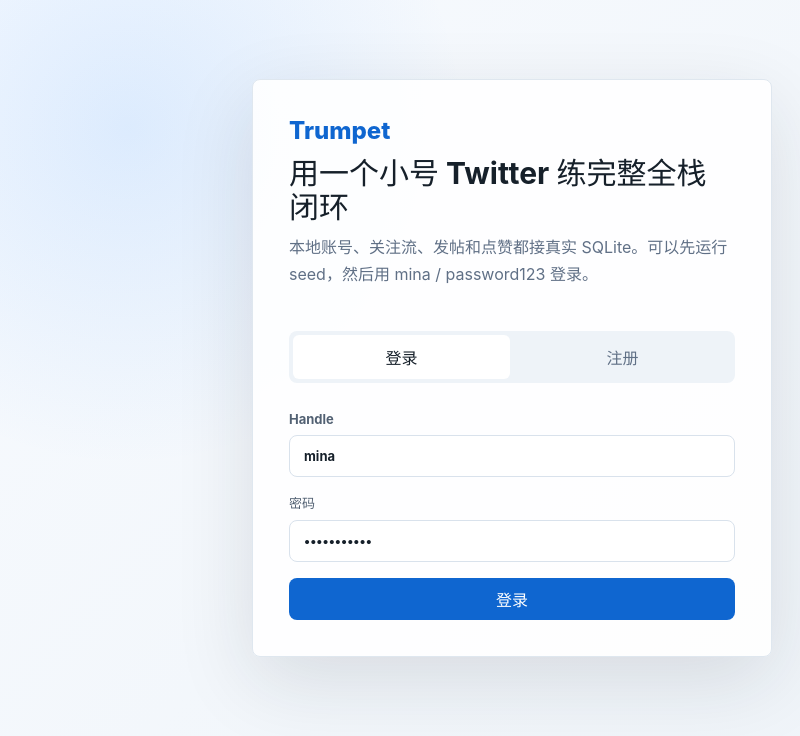
Test: App authentication › shows authentication errors without leaving the login screen
The image size is (800, 736).
Expected: the heading "用一个小号 Twitter 练完整全栈闭环" is shown, [289,157,735,224]
Click the button "登录" below "密码". click: (512, 599)
box: [289,578,735,620]
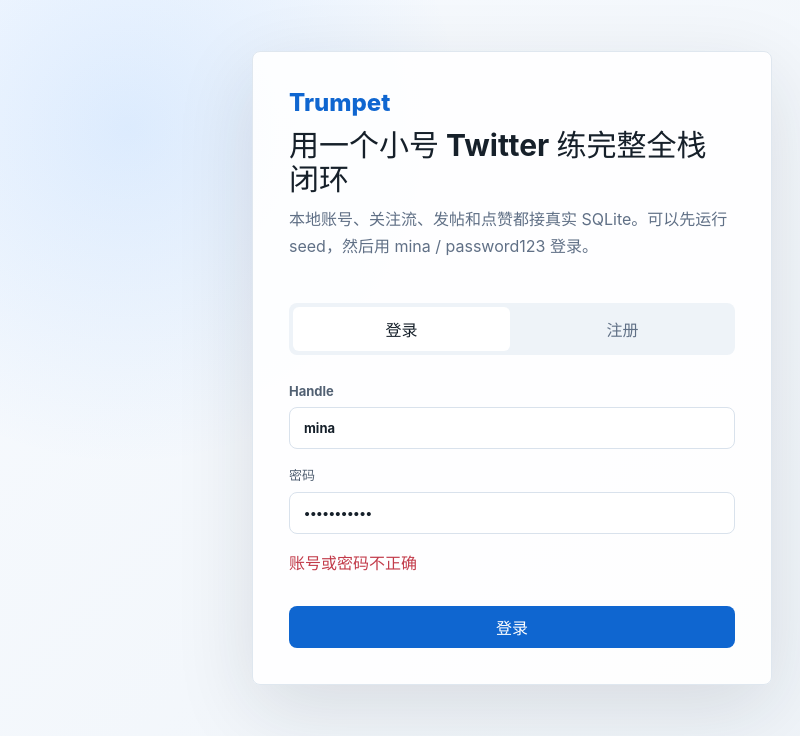
Expected: the text "账号或密码不正确" is shown, [289,553,417,573]
